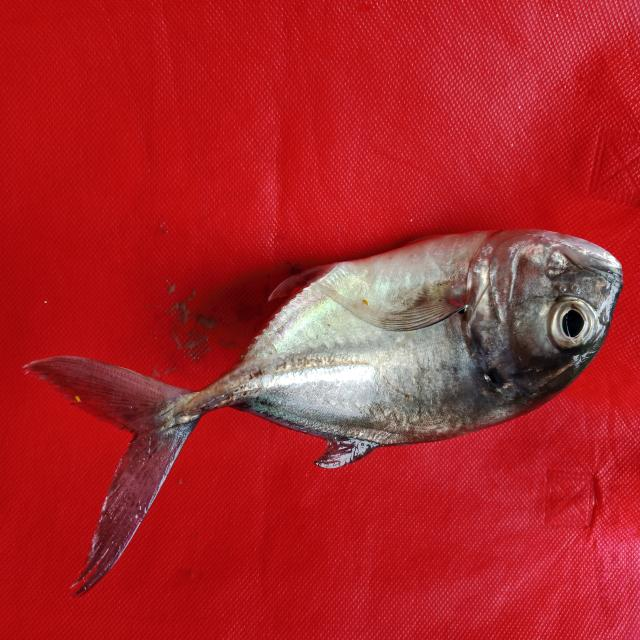ikan: (26, 184, 629, 606)
